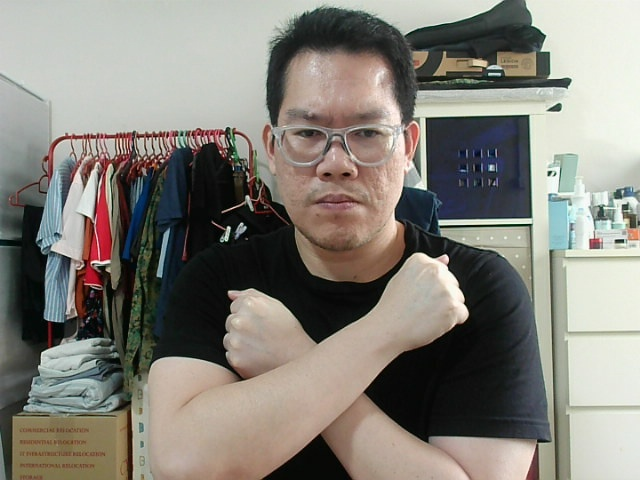love: (391, 259, 464, 324)
